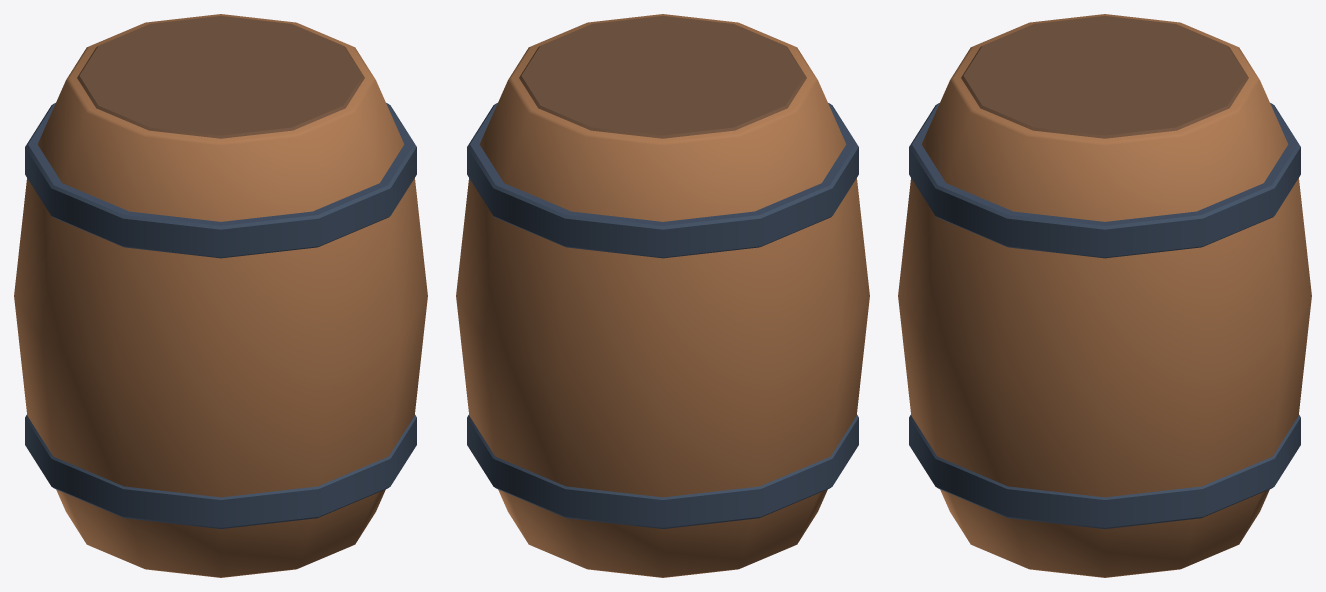
File: wood_barrel_medium_01.glb
3 views of the same model, side by side, from view 1: azimuth 30°, elevation 25°; view 2: azimuth 150°, elevation 25°; view 3: azimuth 270°, elevation 25° (orthographic).
Visible parts, largest first — view 1: wood_barrel_medium_01; view 2: wood_barrel_medium_01; view 3: wood_barrel_medium_01.
Part boxes in pixels (left/top/right/bottom): wood_barrel_medium_01: left=14, top=14, right=427, bottom=577; wood_barrel_medium_01: left=456, top=14, right=869, bottom=577; wood_barrel_medium_01: left=898, top=14, right=1311, bottom=577.
Bounding box in the file's own units: 0.602 × 0.7035 × 0.602.
